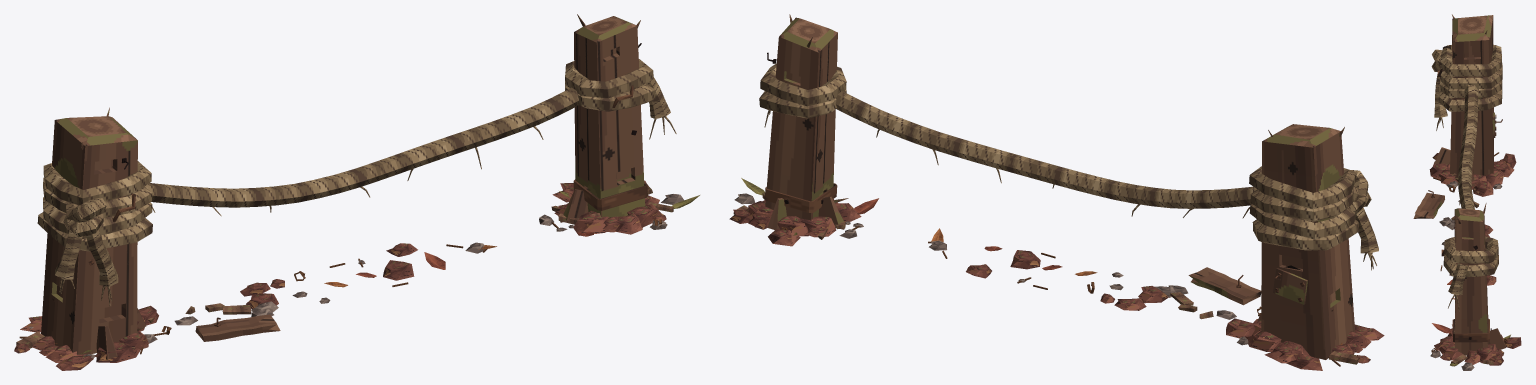
File: SM_AN17_RopeRailing.fbx
The picture shows the model from 3 angles, left to right: view 1: azimuth 30°, elevation 25°; view 2: azimuth 150°, elevation 25°; view 3: azimuth 270°, elevation 25°; orthographic projection. The views are drawn at different scales.
Visible parts, largest first — view 1: AN17a_Props, AN17a_Wood; view 2: AN17a_Props, AN17a_Wood; view 3: AN17a_Props, AN17a_Wood.
Boxes of the visible parts, box(x1,y1,x2,y2) form: AN17a_Props: box(14, 14, 699, 370); AN17a_Wood: box(41, 16, 645, 359); AN17a_Props: box(729, 14, 1384, 370); AN17a_Wood: box(765, 17, 1355, 359); AN17a_Props: box(1428, 14, 1521, 370); AN17a_Wood: box(1413, 15, 1505, 355).
Size of the model in its own units: 3.36 by 1.07 by 0.6781.
